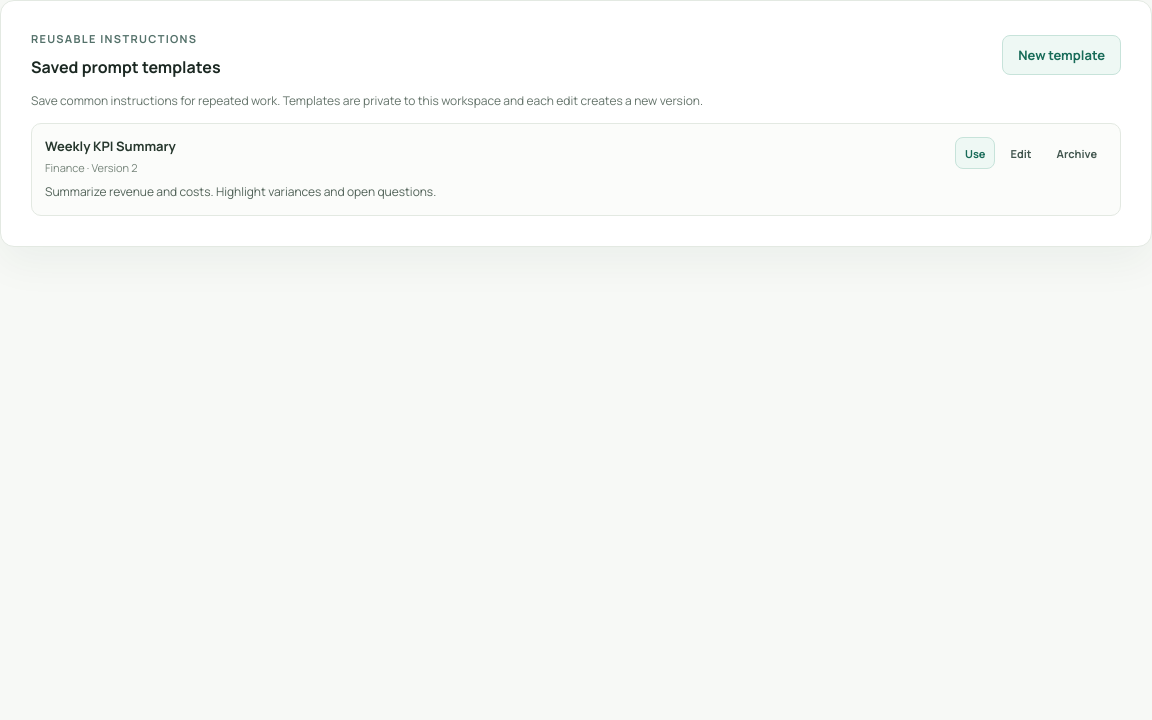
PromptTemplatesPanel › saves edits as a new version and uses the optimistic version number
Click the button "Edit" at point(1021, 153), box 1000,137 -> 1042,169
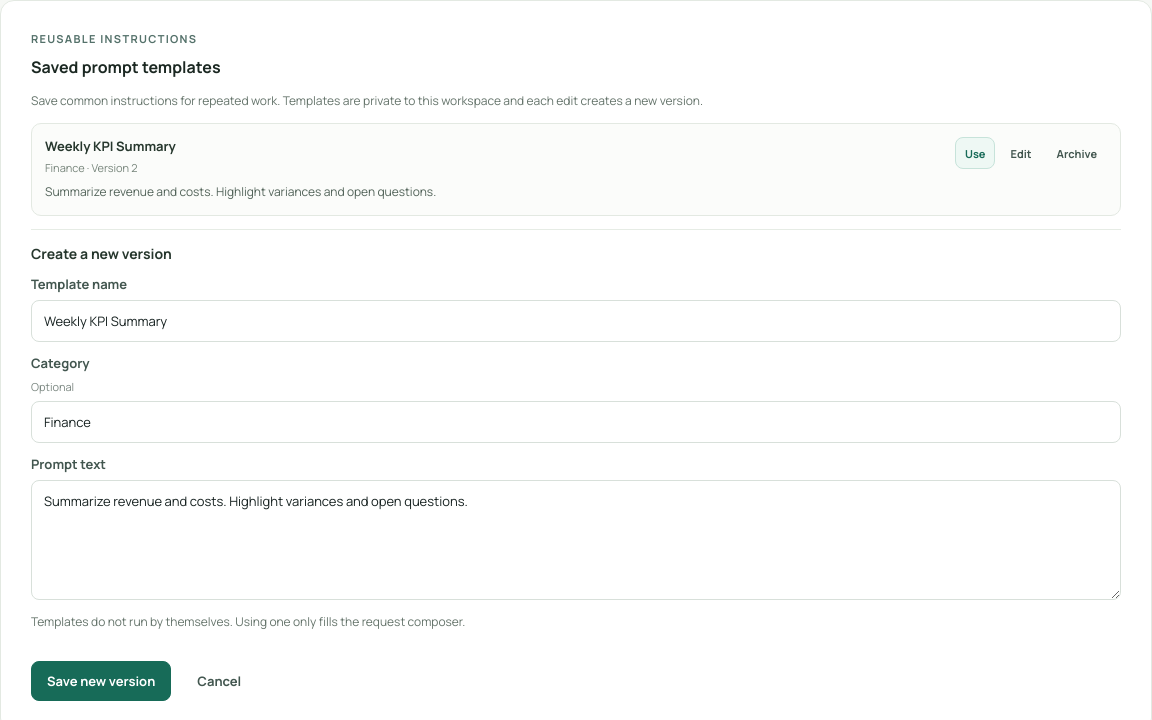
Replace the text in the text box labelled "Prompt text" with "Summarize revenue. Flag variances, owners, and open questions for follow-up." at point(576, 540), box 31,480 -> 1121,600
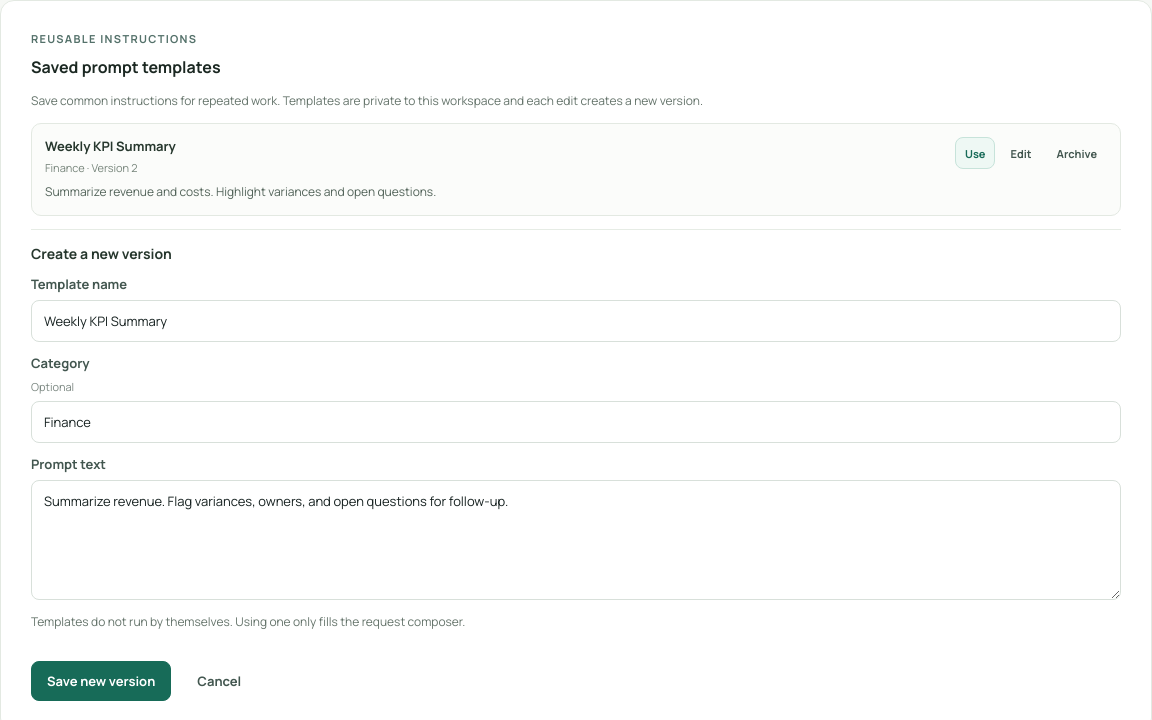
Click the button "Save new version" at point(101, 681), box 31,661 -> 171,701
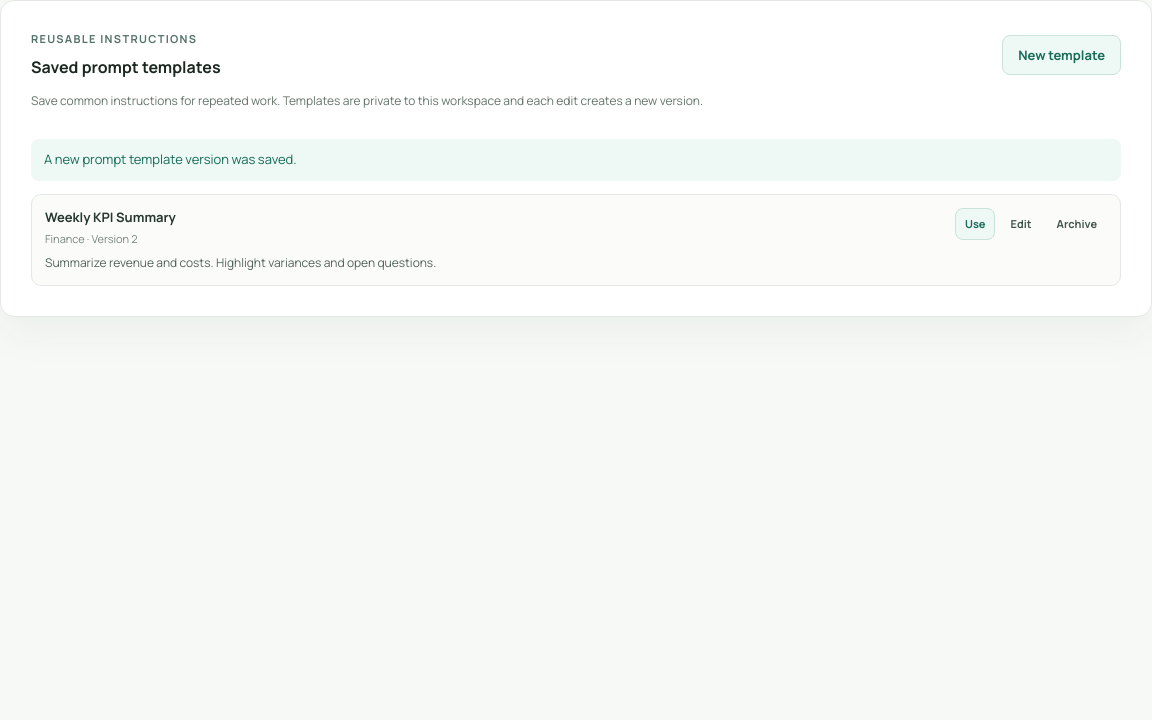
Expected: the message shows "new prompt template version was saved", 44,150 -> 297,168
